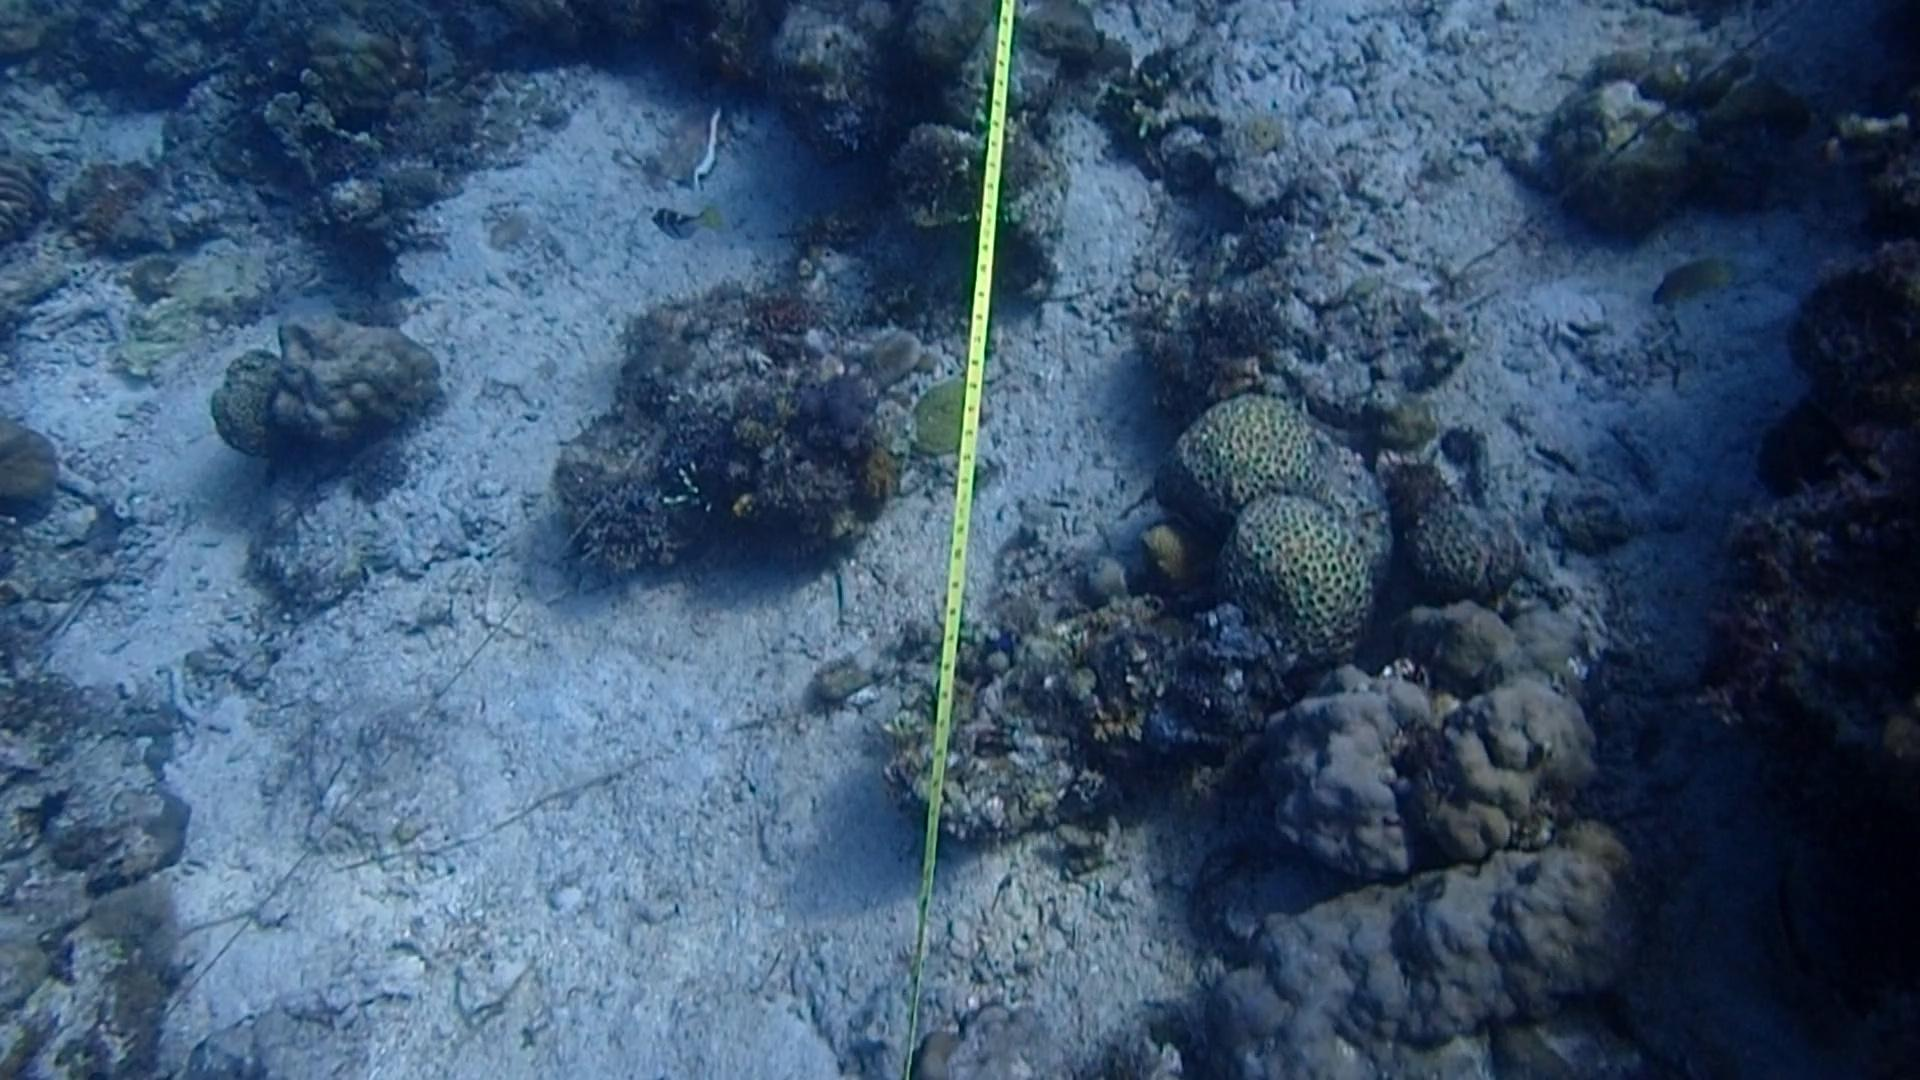Striped Fish: (636, 200, 724, 251)
